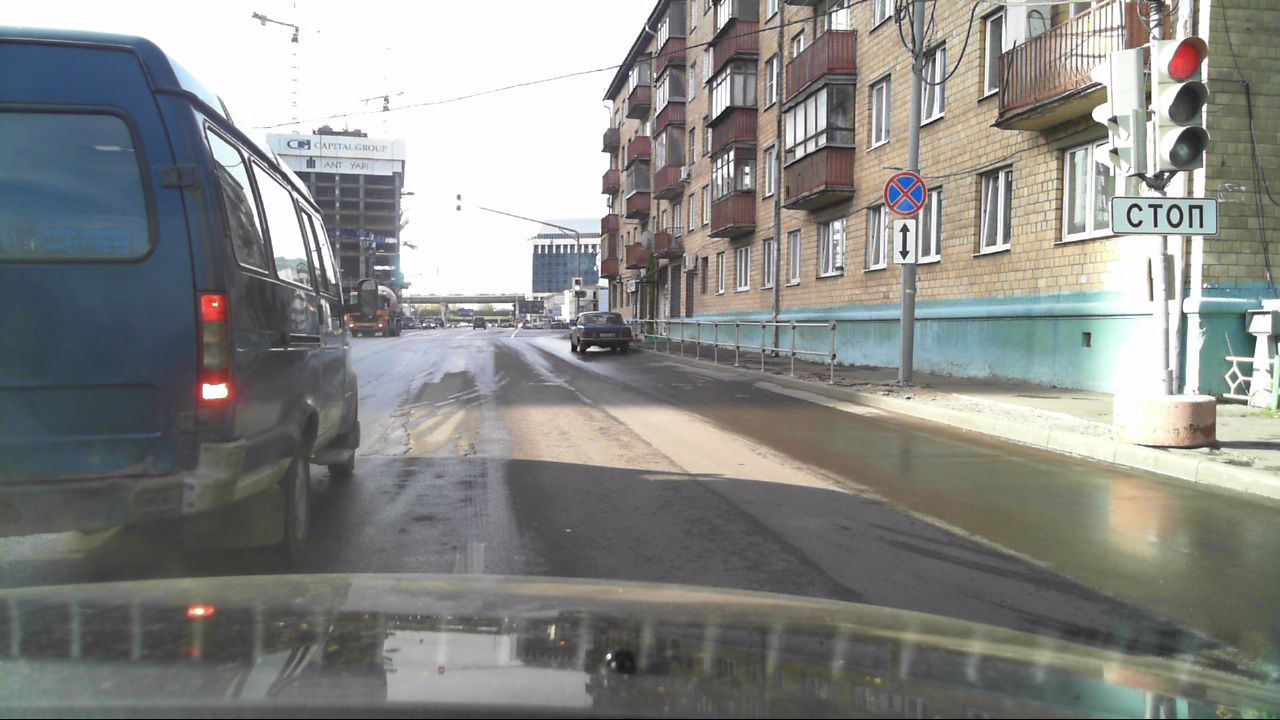No Parking: (884, 170, 928, 215)
